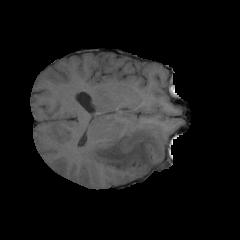glioma: (78, 115, 167, 177)
